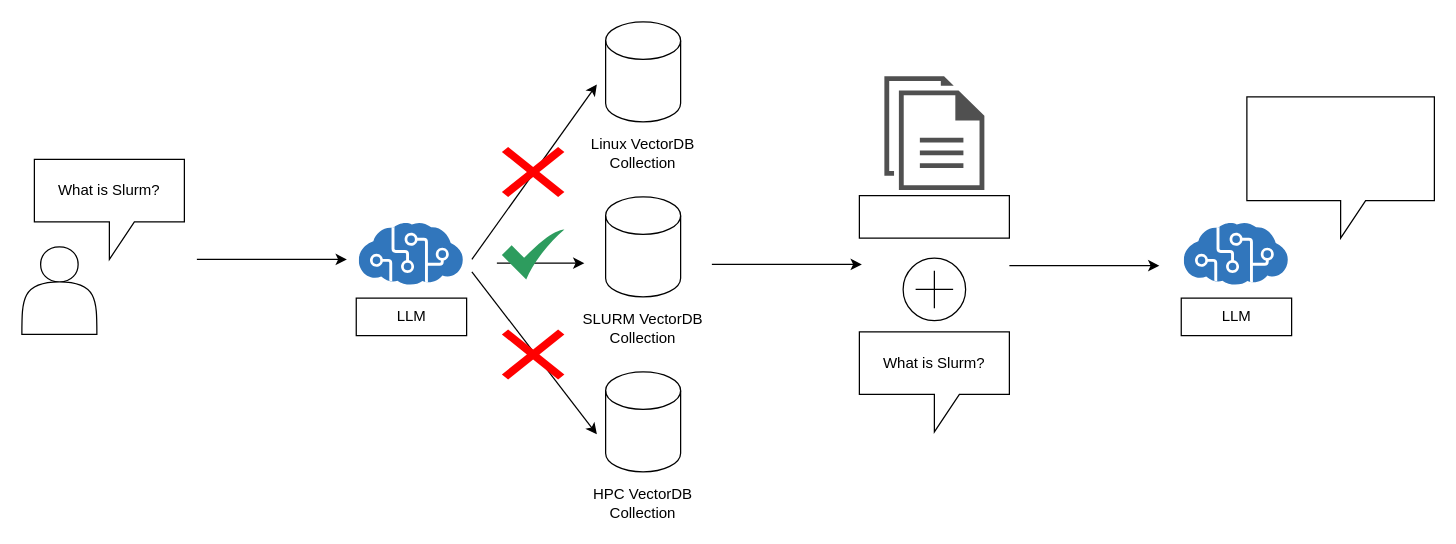
This 1456x544 diagram has some shape labels left out. Each missing label, with the centre of its shape:
Retrieved docs: pixel 933 216
Slurm is a job scheduler often used in HPC environments...: pixel 1340 167
